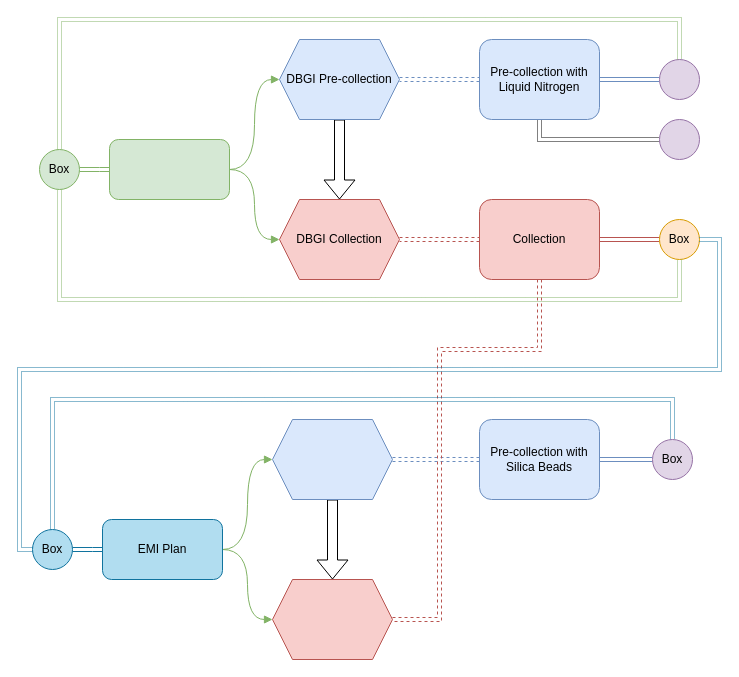
The diagram is 739 pixels wide and 677 high, and some of its shapes have lost their labels. The centre of each missing label's shape, as x and y in pixels:
Box1: [679,79]
Box2: [679,139]
DBGI Plan: [169,169]
EMI Collection: [332,619]
EMI Precollection: [332,459]
